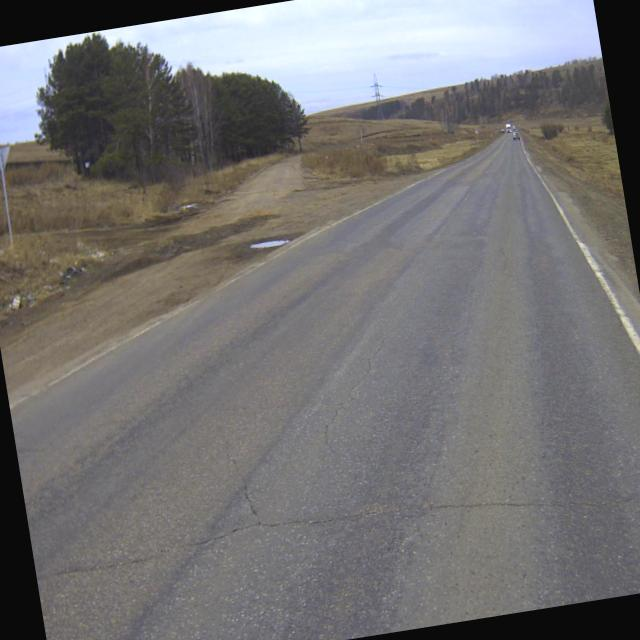road: (10, 133, 640, 640)
